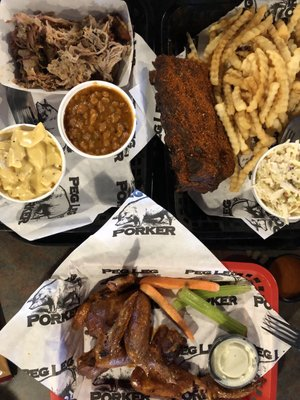burger: (260, 310, 300, 352)
soup: (150, 53, 236, 195)
sushi: (0, 0, 136, 100), (56, 80, 138, 161), (0, 121, 67, 204)
